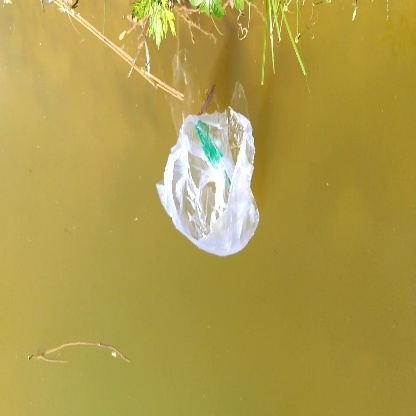branch: (18, 333, 144, 373)
plastic-bag: (154, 109, 268, 254)
